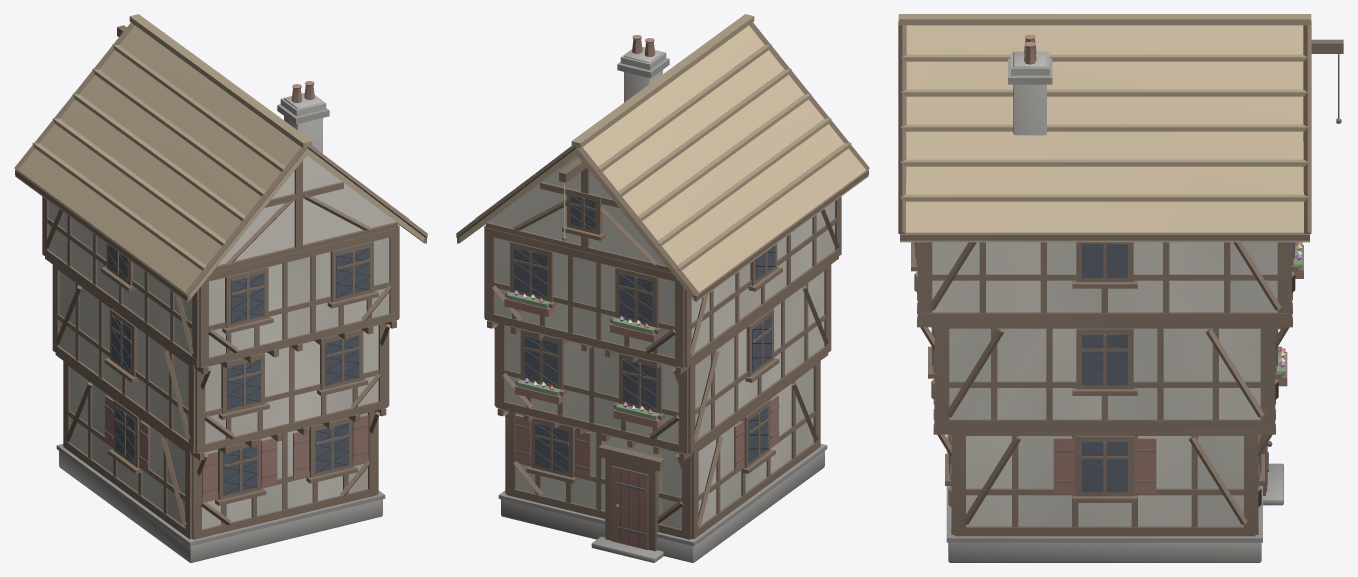
The model's file is townhouse_amber.gltf.
3 views of the same model, side by side, from view 1: azimuth 30°, elevation 25°; view 2: azimuth 150°, elevation 25°; view 3: azimuth 270°, elevation 25° (orthographic). The views are drawn at different scales.
Visible parts, largest first — view 1: Body; view 2: Body; view 3: Body.
Part boxes in pixels (box(x1,y1,x2,y2)): Body: box(14, 14, 427, 562); Body: box(456, 14, 869, 562); Body: box(898, 14, 1343, 562).
Size of the model in its own units: 6.92 by 11.37 by 9.24.
